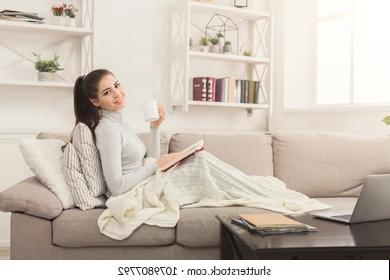blanket: (96, 148, 333, 242)
long sleeve shirt: (93, 108, 160, 197)
